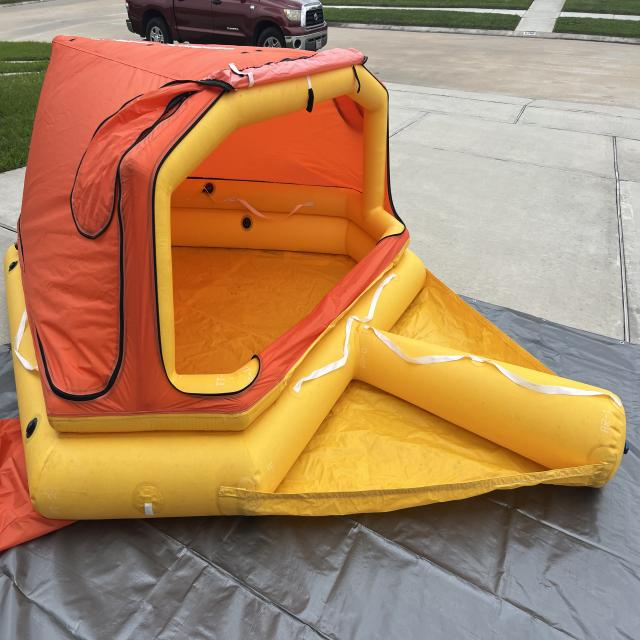Multi-person_life_raft: (1, 31, 627, 552)
